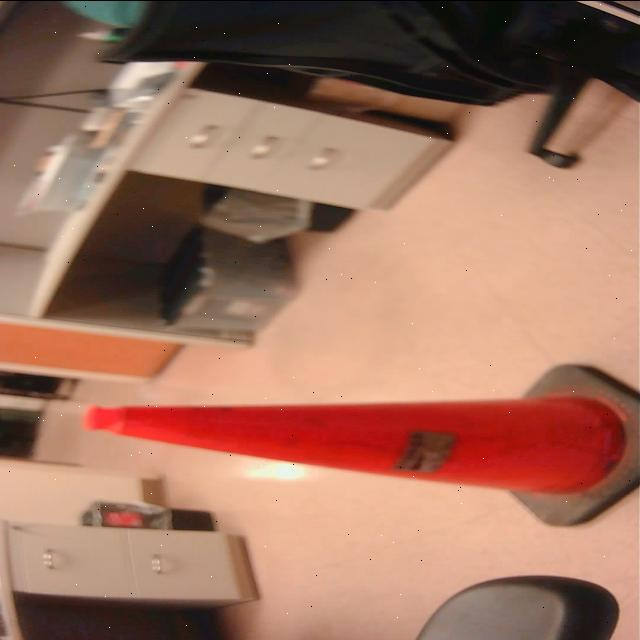traffic cone: (71, 356, 640, 533)
